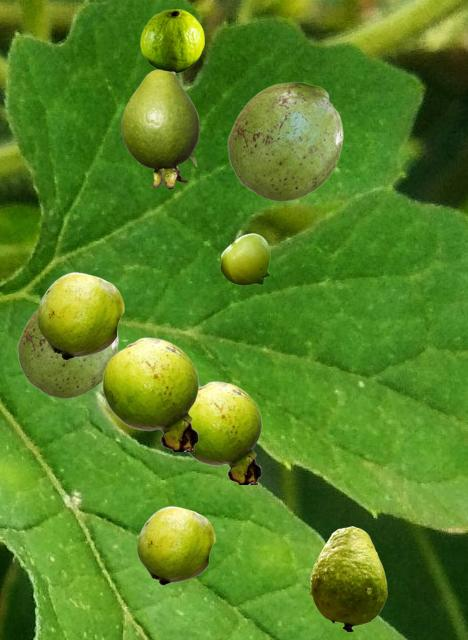guava: (227, 82, 342, 200), (102, 337, 198, 450), (121, 69, 198, 188), (17, 310, 117, 397), (309, 526, 386, 631), (186, 381, 261, 483), (37, 272, 123, 359), (137, 506, 214, 584), (140, 9, 203, 72), (220, 233, 269, 284)
